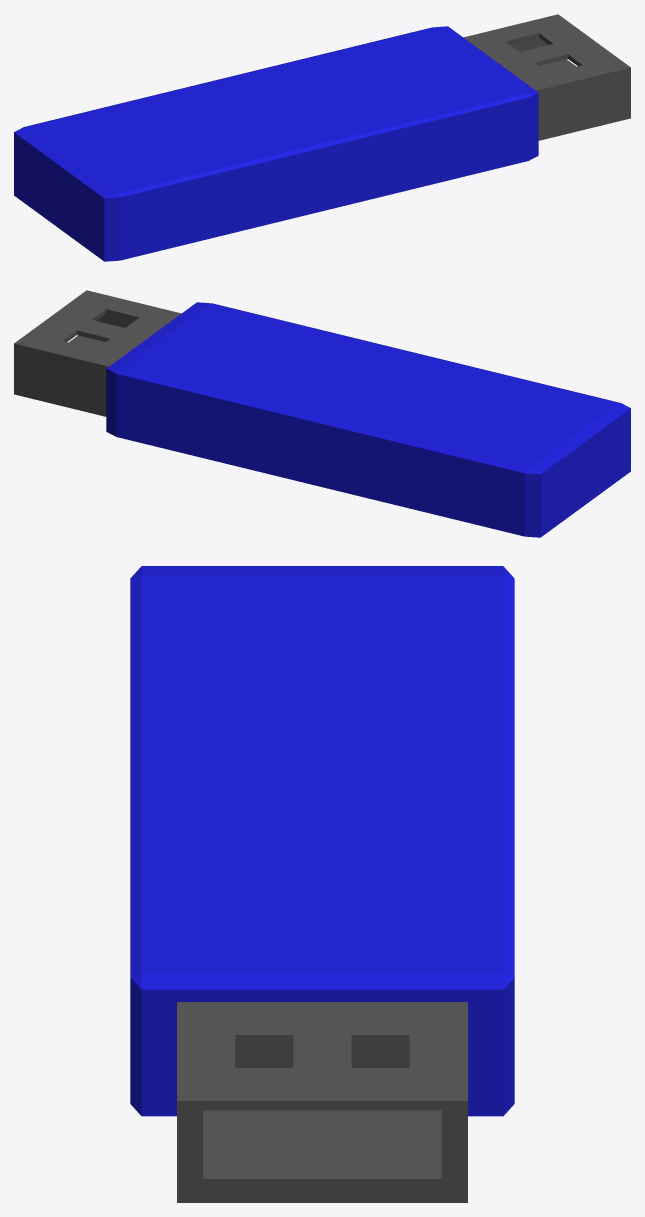
File: Pendrive.fbx
3 renders of one model, top to bottom at view 1: azimuth 30°, elevation 25°; view 2: azimuth 150°, elevation 25°; view 3: azimuth 270°, elevation 25°, orthographic. The views are drawn at different scales.
Visible parts, largest first — view 1: Cube; view 2: Cube; view 3: Cube.
Boxes of the visible parts, x1,y1,x2,y2 form: Cube: (14,14,630,261); Cube: (14,290,630,537); Cube: (130,566,514,1202).
Bounding box in the file's own units: 643 × 77.19 × 200.
